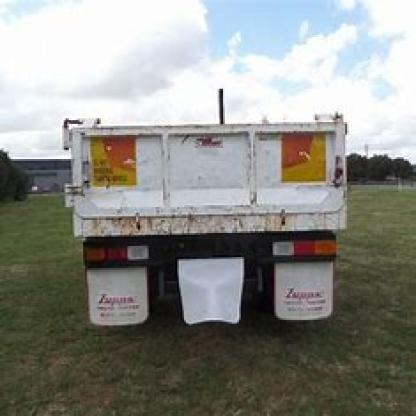dump_truck: (44, 72, 372, 333)
